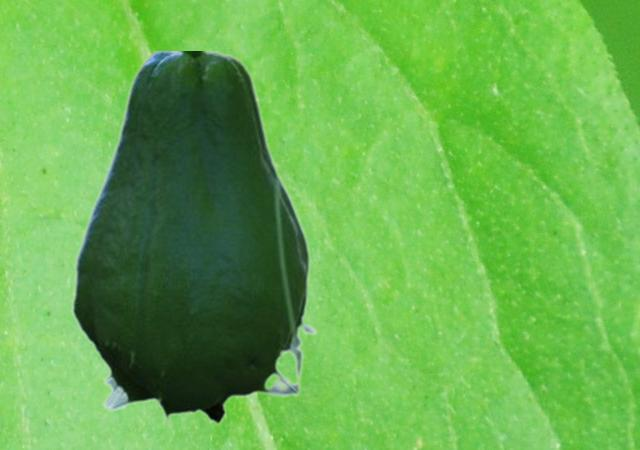sayote: (71, 51, 317, 431)
